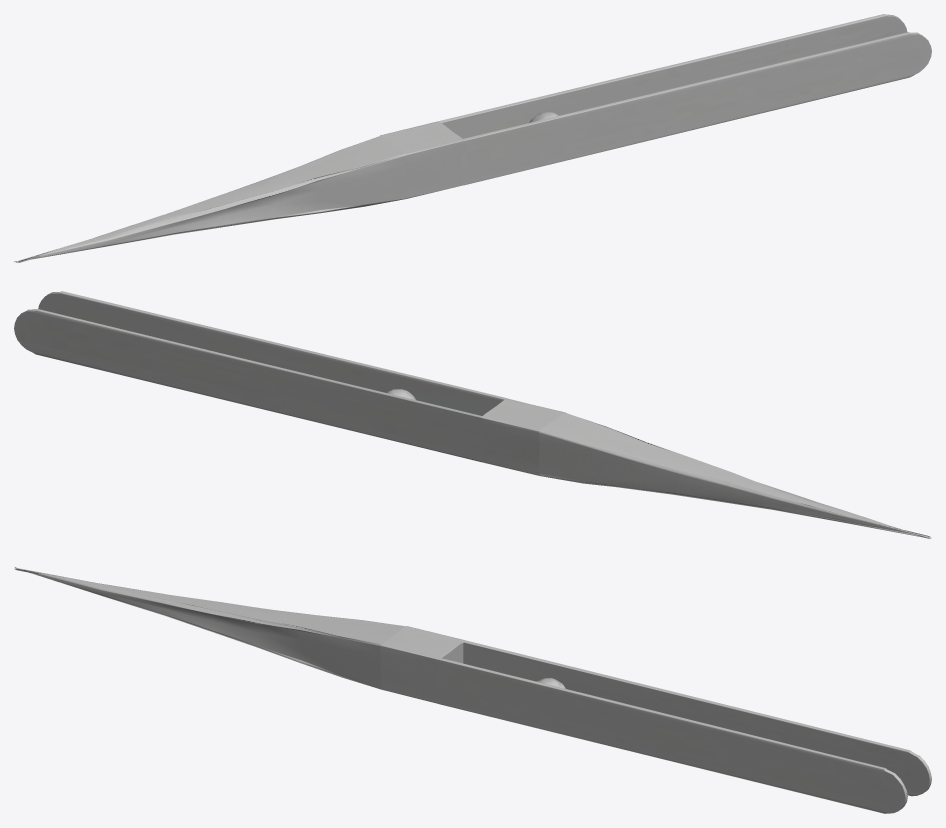
File: tweezers.glb
The picture shows the model from 3 angles, top to bottom: view 1: azimuth 30°, elevation 25°; view 2: azimuth 150°, elevation 25°; view 3: azimuth 330°, elevation 25°; orthographic projection.
Bounding box in the file's own units: 0.9526 × 0.0469 × 0.0484.
Materials: 1 (1 with a texture image).
